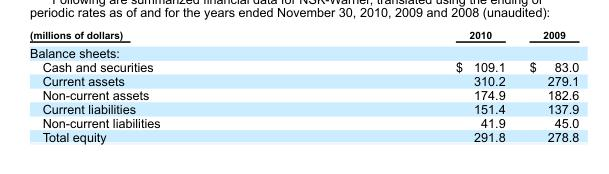table: (29, 29, 578, 143)
table column: (29, 29, 307, 143), (307, 29, 516, 143), (516, 29, 578, 143)
table column header: (29, 29, 578, 43)
table projected row header: (29, 43, 578, 59)
table row: (29, 43, 578, 59), (29, 29, 578, 43), (29, 59, 578, 73), (29, 73, 578, 87), (29, 87, 578, 101), (29, 101, 578, 115), (29, 115, 578, 129), (29, 129, 578, 143)
